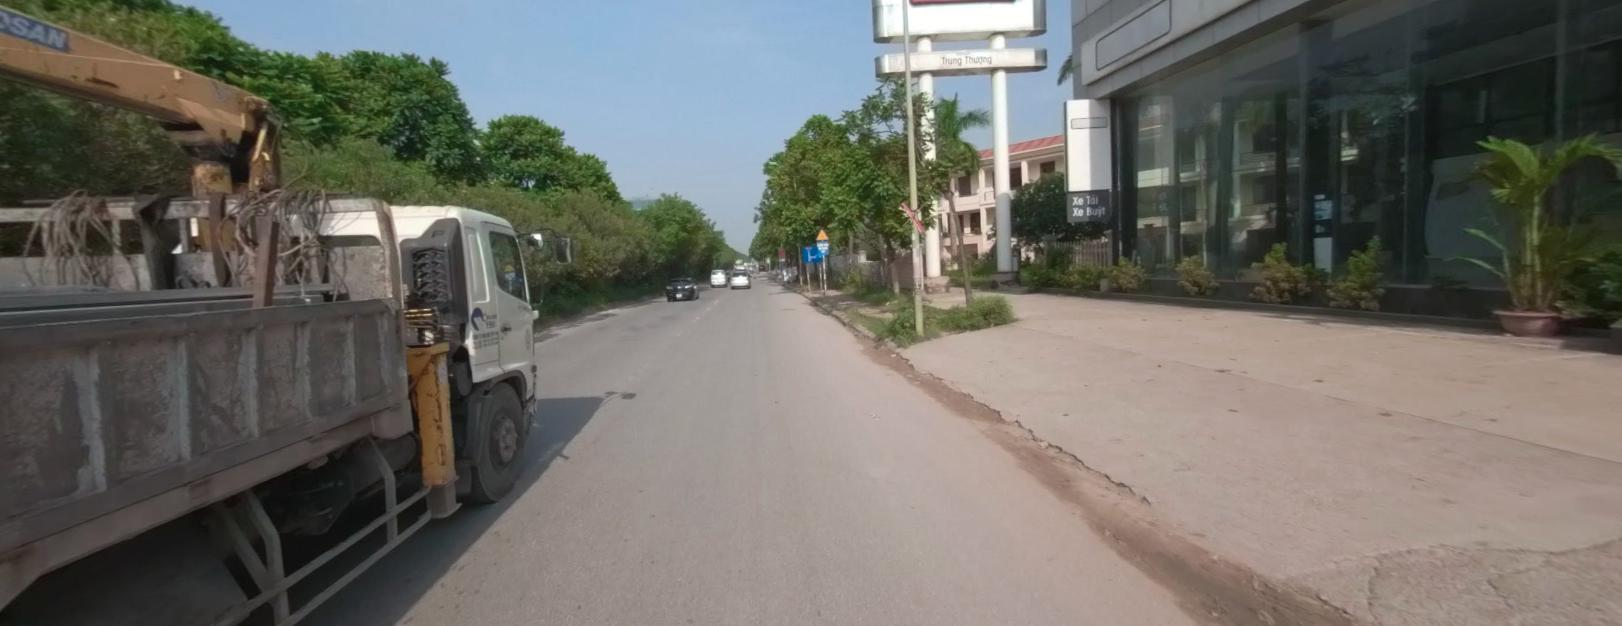Nguy hiem: (815, 227, 829, 239), (815, 227, 829, 237), (816, 227, 828, 238)
